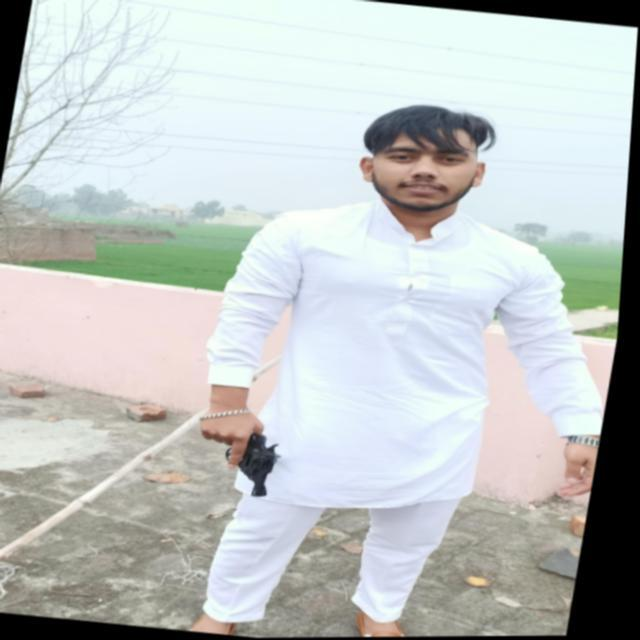weapon: (190, 421, 296, 501)
